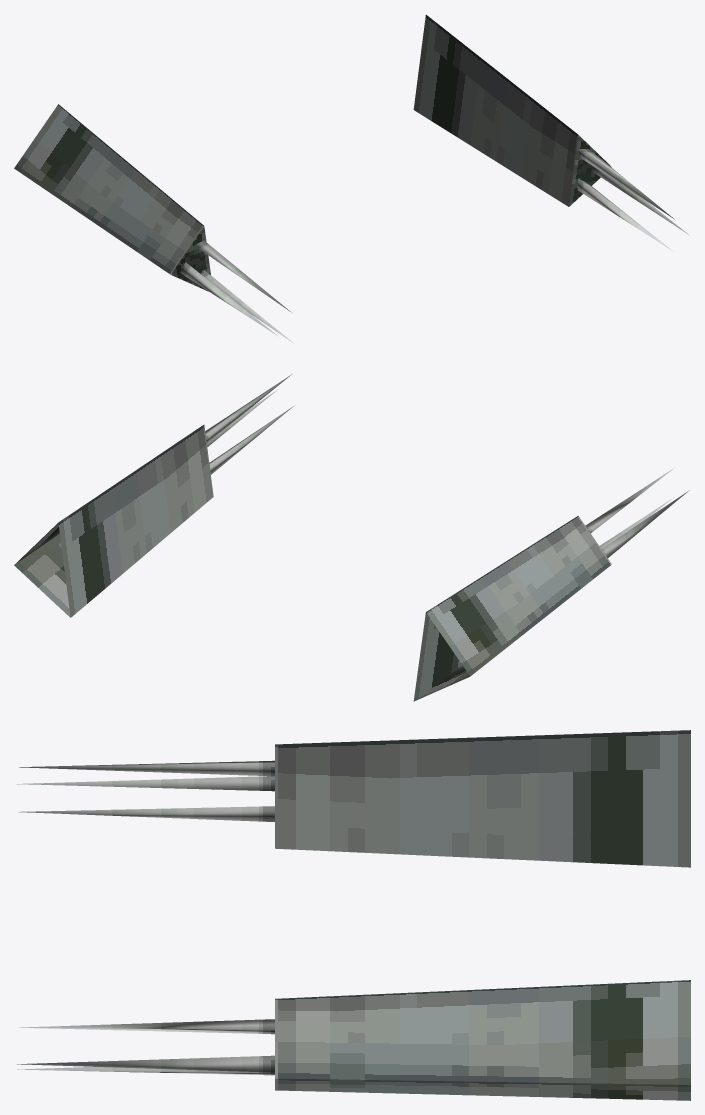
The model's file is hutt_fighter_heavy_weapon1_s04_l3.fbx.
3 renders of one model, top to bottom at view 1: azimuth 30°, elevation 25°; view 2: azimuth 150°, elevation 25°; view 3: azimuth 270°, elevation 25°, orthographic. The views are drawn at different scales.
Visible parts, largest first — view 1: mesh_node; view 2: mesh_node; view 3: mesh_node.
Boxes of the visible parts, x1,y1,x2,y2 form: mesh_node: (14, 14, 689, 343); mesh_node: (14, 374, 689, 701); mesh_node: (17, 730, 690, 1100).
Size of the model in its own units: 2.84 by 0.5518 by 2.62.
Materials: 1 (1 with a texture image).
